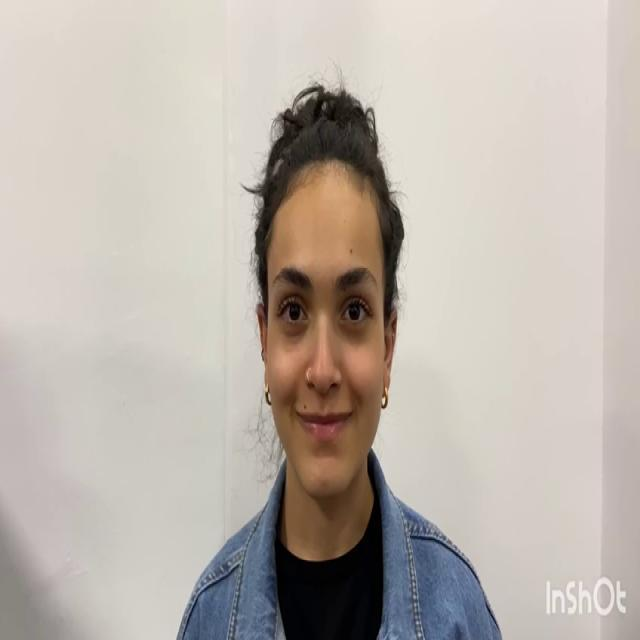happy: (253, 153, 400, 505)
